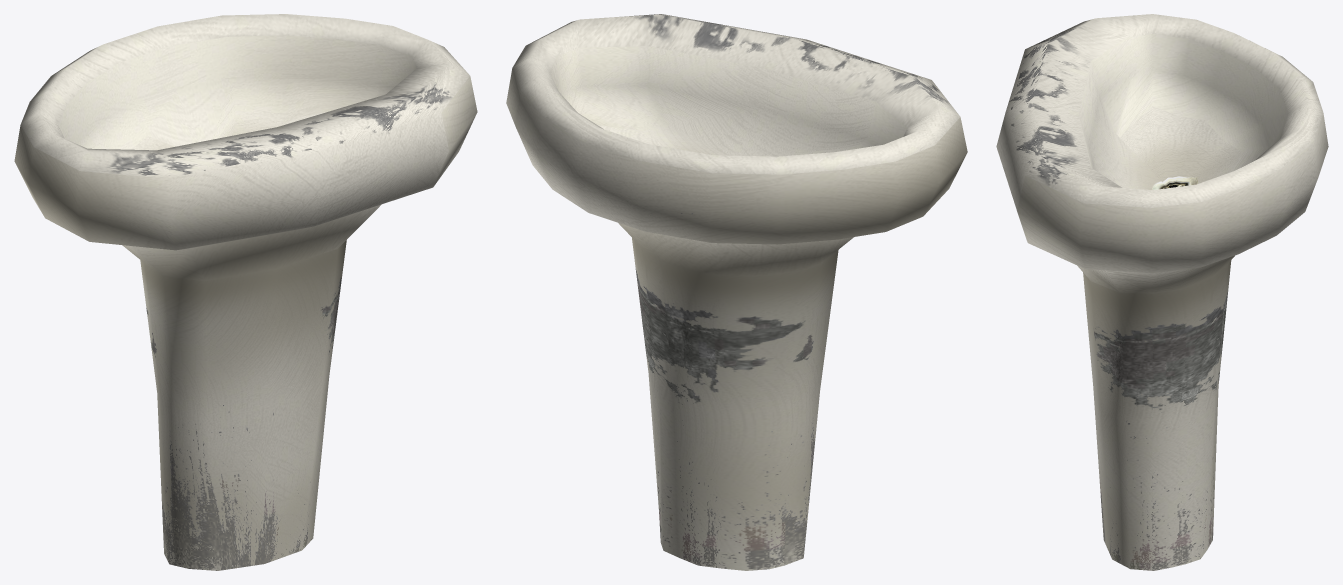
The model's file is Sink.fbx.
The picture shows the model from 3 angles, left to right: view 1: azimuth 30°, elevation 25°; view 2: azimuth 150°, elevation 25°; view 3: azimuth 270°, elevation 25°; orthographic projection. The views are drawn at different scales.
Visible parts, largest first — view 1: polySurface192; view 2: polySurface192; view 3: polySurface192.
Part boxes in pixels (left/top/right/bottom): polySurface192: left=14, top=14, right=477, bottom=570; polySurface192: left=506, top=14, right=967, bottom=570; polySurface192: left=996, top=14, right=1328, bottom=570.
Bounding box in the file's own units: 5.8 × 6.04 × 4.15.
